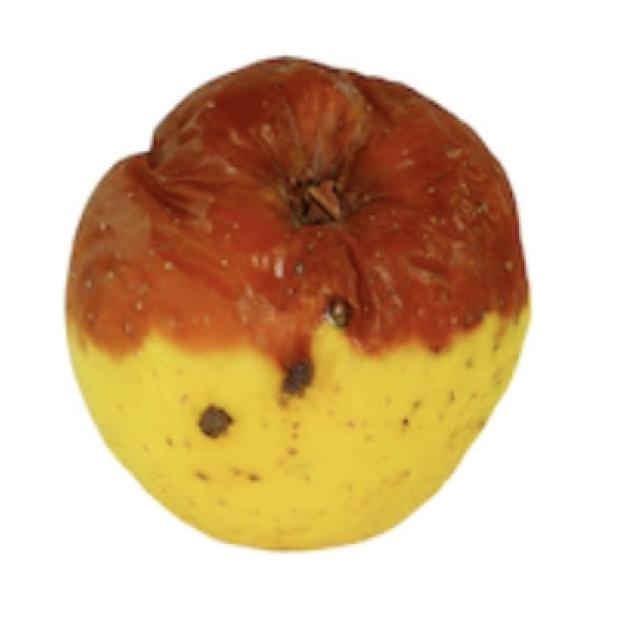rotten_apple: (66, 59, 528, 551)
